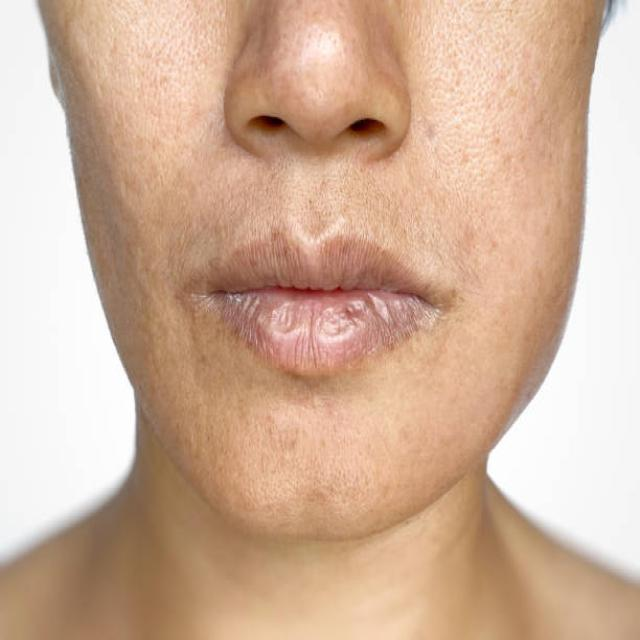Dry-Skin: (164, 356, 484, 567), (413, 7, 567, 280), (57, 12, 210, 278)
